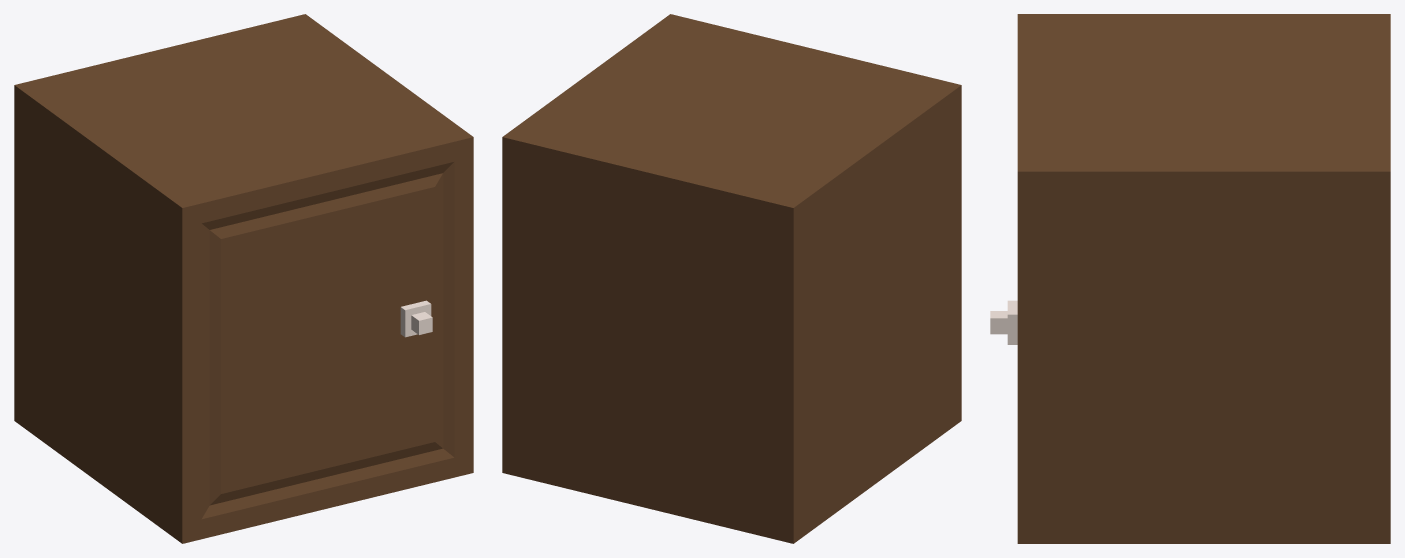
The model's file is wardrobe2.fbx.
3 renders of one model, left to right at view 1: azimuth 30°, elevation 25°; view 2: azimuth 150°, elevation 25°; view 3: azimuth 270°, elevation 25°, orthographic. The views are drawn at different scales.
Visible parts, largest first — view 1: wardobe2; view 2: wardobe2; view 3: wardobe2.
Boxes of the visible parts, x1,y1,x2,y2 form: wardobe2: (14,14,473,543); wardobe2: (502,14,961,543); wardobe2: (990,14,1390,543).
Bounding box in the file's own units: 2 × 2.2 × 2.15.
